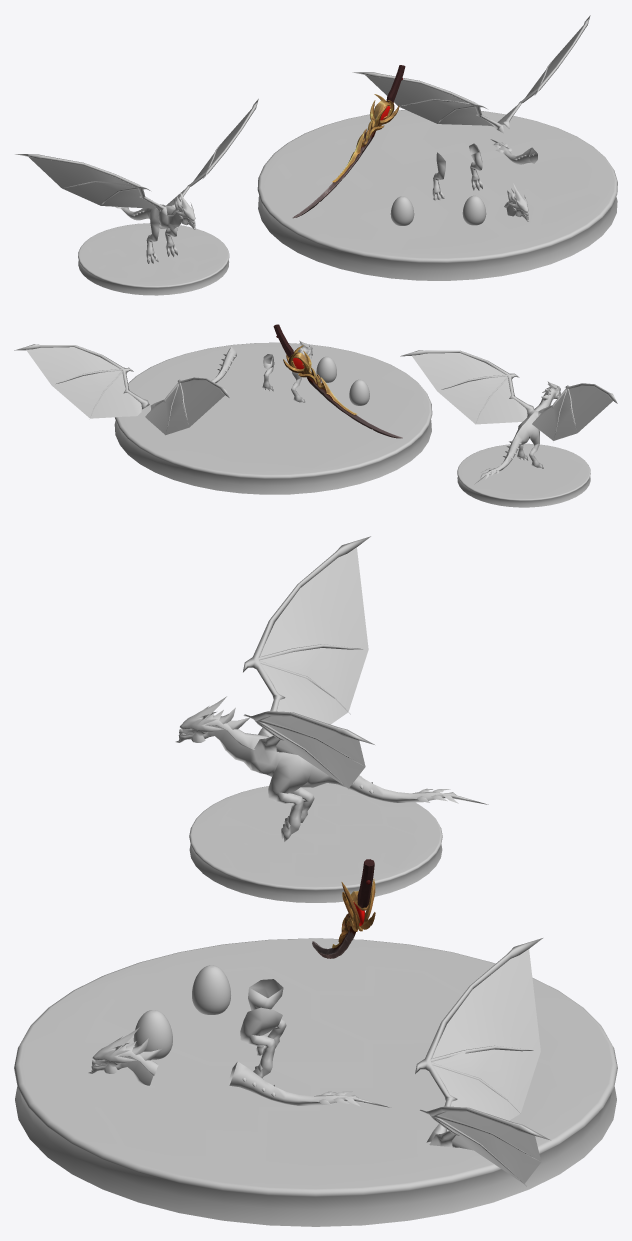
The model's file is Dragon Creature 3D Asset Pack with Eggs, Sword, and PBR Textures - Game-Ready Fantasy ModelsOBJ.obj.
3 views of the same model, one above another, from view 1: azimuth 30°, elevation 25°; view 2: azimuth 150°, elevation 25°; view 3: azimuth 270°, elevation 25° (orthographic). The views are drawn at different scales.
Parts seen in each view (by area): view 1: model_0_Mesh3_Mesh.005, model_0_Mesh_Mesh, model_0_Mesh2_Mesh.003, polySurface36_Mesh.010, model_1_Mesh_Mesh.011, polySurface2_Mesh.006, Mesh1_Mesh.002, Mesh_Mesh.001, polySurface1_Mesh.004, polySurface10_Mesh.007, polySurface32_Mesh.009, polySurface28_Mesh.008; view 2: model_0_Mesh3_Mesh.005, model_0_Mesh2_Mesh.003, model_0_Mesh_Mesh, polySurface2_Mesh.006, polySurface36_Mesh.010, model_1_Mesh_Mesh.011, Mesh_Mesh.001, Mesh1_Mesh.002, polySurface10_Mesh.007, polySurface32_Mesh.009; view 3: model_0_Mesh3_Mesh.005, model_0_Mesh2_Mesh.003, model_0_Mesh_Mesh, polySurface36_Mesh.010, polySurface2_Mesh.006, model_1_Mesh_Mesh.011, polySurface10_Mesh.007, polySurface1_Mesh.004, polySurface32_Mesh.009, Mesh_Mesh.001, Mesh1_Mesh.002, polySurface28_Mesh.008.
Boxes of the visible parts, <box> form: model_0_Mesh3_Mesh.005: <box>257,110,617,280</box>; model_0_Mesh_Mesh: <box>78,223,229,295</box>; model_0_Mesh2_Mesh.003: <box>15,98,258,263</box>; polySurface36_Mesh.010: <box>352,72,503,133</box>; model_1_Mesh_Mesh.011: <box>292,65,405,218</box>; polySurface2_Mesh.006: <box>497,15,590,128</box>; Mesh1_Mesh.002: <box>462,195,486,225</box>; Mesh_Mesh.001: <box>390,196,414,225</box>; polySurface1_Mesh.004: <box>504,183,528,221</box>; polySurface10_Mesh.007: <box>490,139,537,164</box>; polySurface32_Mesh.009: <box>469,143,482,190</box>; polySurface28_Mesh.008: <box>432,152,445,200</box>; model_0_Mesh3_Mesh.005: <box>114,342,432,494</box>; model_0_Mesh2_Mesh.003: <box>400,350,617,484</box>; model_0_Mesh_Mesh: <box>457,443,590,507</box>; polySurface2_Mesh.006: <box>14,344,149,418</box>; polySurface36_Mesh.010: <box>145,377,229,435</box>; model_1_Mesh_Mesh.011: <box>273,324,402,438</box>; Mesh_Mesh.001: <box>349,379,369,405</box>; Mesh1_Mesh.002: <box>316,356,336,382</box>; polySurface10_Mesh.007: <box>211,347,236,383</box>; polySurface32_Mesh.009: <box>262,354,274,391</box>; model_0_Mesh3_Mesh.005: <box>14,938,617,1226</box>; model_0_Mesh2_Mesh.003: <box>175,536,488,841</box>; model_0_Mesh_Mesh: <box>189,783,442,902</box>; polySurface36_Mesh.010: <box>415,938,542,1142</box>; polySurface2_Mesh.006: <box>419,1106,550,1186</box>; model_1_Mesh_Mesh.011: <box>312,859,375,958</box>; polySurface10_Mesh.007: <box>229,1061,389,1107</box>; polySurface1_Mesh.004: <box>88,1027,162,1085</box>; polySurface32_Mesh.009: <box>240,1007,282,1078</box>; Mesh_Mesh.001: <box>192,965,230,1014</box>; Mesh1_Mesh.002: <box>133,1010,172,1059</box>; polySurface28_Mesh.008: <box>248,979,286,1055</box>.
Bounding box in the file's own units: 47.17 × 9.99 × 23.38.
